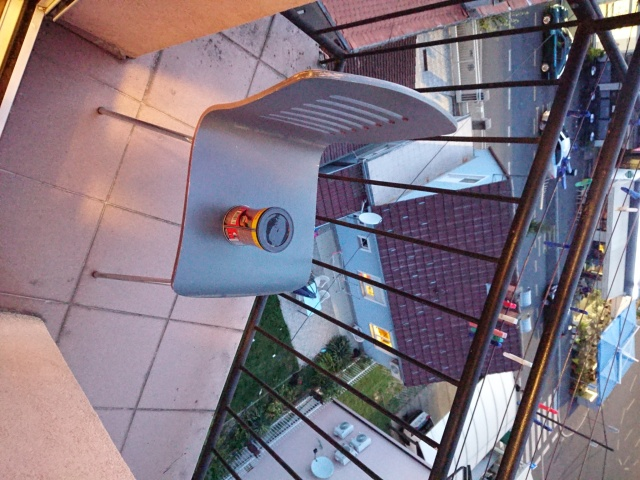Nescafe Classic 225g: (220, 203, 296, 255)
